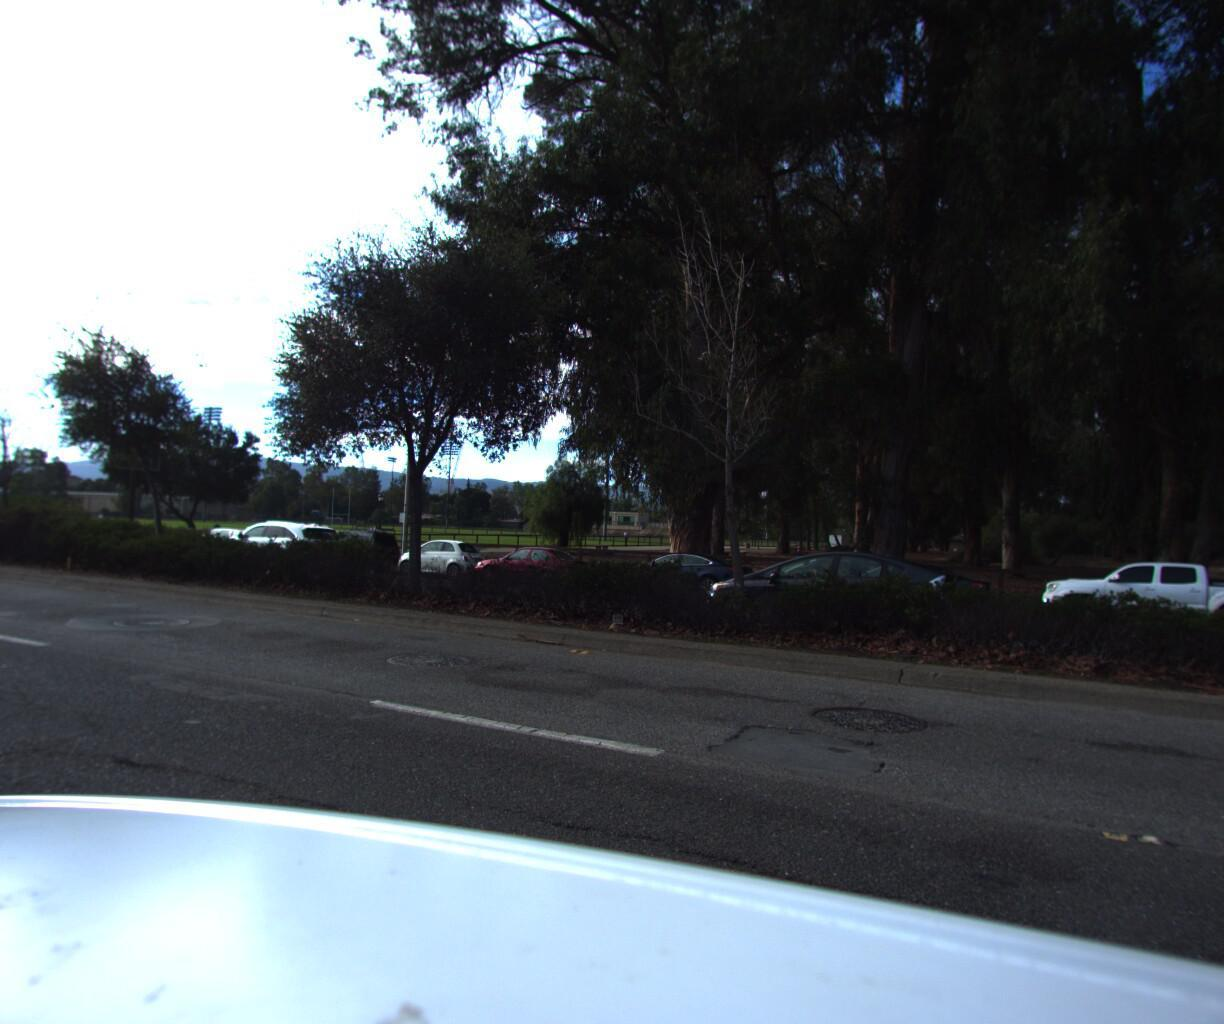car: (706, 542, 967, 648), (1020, 548, 1224, 647), (805, 551, 1000, 626), (590, 542, 762, 605), (207, 515, 355, 577), (461, 538, 605, 594), (276, 518, 402, 573), (158, 518, 288, 566), (381, 529, 493, 585)
